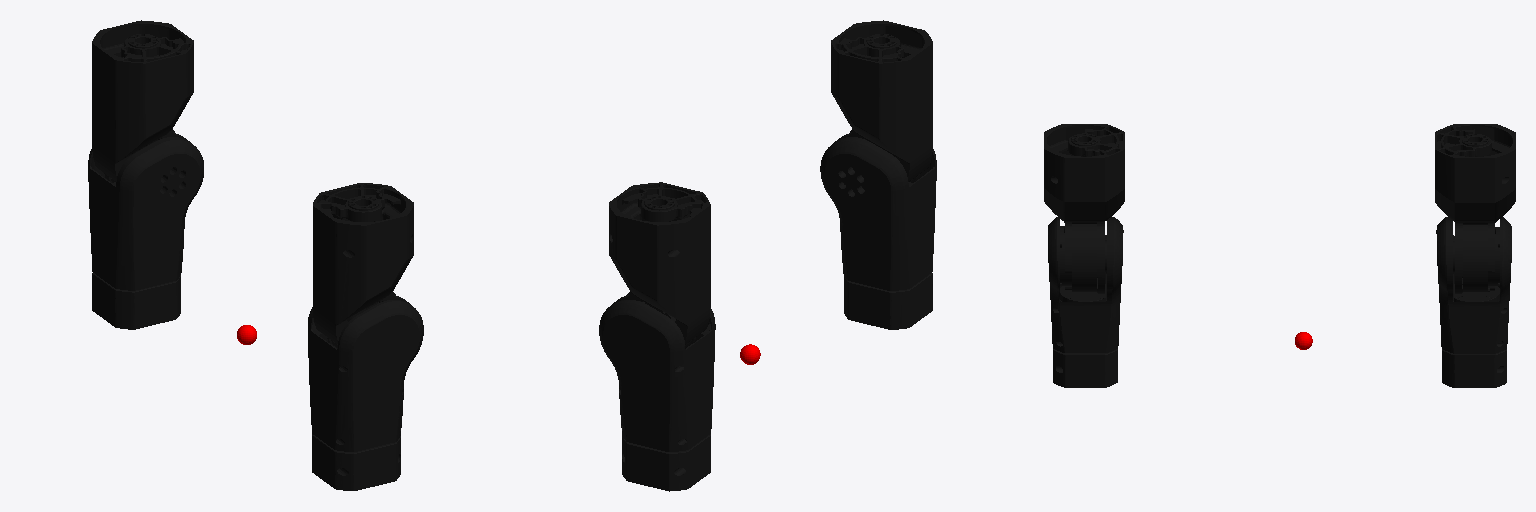
The robot description file, URDF, robot "assy_forurdf":
<?xml version="1.0" ?>
<robot name="assy_forurdf">
  <link name="base">
    <visual name="base_visual">
      <geometry name="base_geometry">
        <sphere radius="0.01"/>
      </geometry>
      <material name="base_material">
        <color rgba="1 0 0 1"/>
      </material>
      <origin xyz="0 0.035 0" rpy="0 0 1.5708"/>
    </visual>
    <inertial name="base_inertial">
      <mass value="0.001"/>
      <inertia ixx="0.000001" iyy="0.000001" izz="0.000001" ixy="0" ixz="0" iyz="0"/>
      <origin xyz="0 0.035 0" rpy="0 0 1.5708"/>
    </inertial>
  </link>
  <joint name="base_joint" type="fixed">
    <parent link="base"/>
    <child link="KD_D_101L_L_Hip_Static"/>
    <origin xyz="0 0.035 0" rpy="0 0 1.5708"/>
  </joint>
  <joint name="dof_left_hip_pitch_04" type="revolute">
    <origin xyz="0.030112 0.000852 -0.027644" rpy="-1.570796 0 1.570796"/>
    <parent link="KD_D_101L_L_Hip_Static"/>
    <child link="KD_D_102L_L_Hip_Yoke_Drive"/>
    <limit effort="120" velocity="17.488" lower="-1.047198" upper="2.216568"/>
    <axis xyz="0 0 1"/>
  </joint>
  <joint name="dof_left_hip_roll_03" type="revolute">
    <origin xyz="-0.028250 0.030000 -0.071000" rpy="3.141593 -1.570796 0"/>
    <parent link="KD_D_102L_L_Hip_Yoke_Drive"/>
    <child link="L_Hip_Roll_RS03"/>
    <limit effort="60" velocity="18.849" lower="-0.209440" upper="2.268928"/>
    <axis xyz="0 0 -1"/>
  </joint>
  <joint name="dof_right_hip_pitch_04" type="revolute">
    <origin xyz="-0.081888 0.000852 -0.027644" rpy="1.570796 0 1.570796"/>
    <parent link="KD_D_101L_L_Hip_Static"/>
    <child link="KD_D_102R"/>
    <limit effort="120" velocity="17.488" lower="-2.216568" upper="1.047198"/>
    <axis xyz="0 0 1"/>
  </joint>
  <joint name="dof_right_shoulder_pitch_03" type="revolute">
    <origin xyz="-0.146888 0.000852 0.382856" rpy="0 -1.570796 0"/>
    <parent link="KD_D_101L_L_Hip_Static"/>
    <child link="KC_C_101R_ShldYokeDrive"/>
    <limit effort="60" velocity="18.849" lower="-3.490658" upper="1.047198"/>
    <axis xyz="0 0 -1"/>
  </joint>
  <joint name="dof_left_shoulder_pitch_03" type="revolute">
    <origin xyz="0.095112 0.000852 0.382856" rpy="0 1.570796 0"/>
    <parent link="KD_D_101L_L_Hip_Static"/>
    <child link="KD_C_101L_ShldYokeDrive"/>
    <limit effort="60" velocity="18.849" lower="-1.047198" upper="3.490658"/>
    <axis xyz="0 0 -1"/>
  </joint>
  <joint name="dof_right_hip_roll_03" type="revolute">
    <origin xyz="-0.028250 -0.030000 -0.071000" rpy="0 -1.570796 0"/>
    <parent link="KD_D_102R"/>
    <child link="L_Hip_Roll_RS03_2"/>
    <limit effort="60" velocity="18.849" lower="-2.268928" upper="0.209440"/>
    <axis xyz="0 0 1"/>
  </joint>
  <joint name="dof_right_shoulder_roll_03" type="revolute">
    <origin xyz="0 -0.024250 0.080000" rpy="1.570796 1.570796 0"/>
    <parent link="KC_C_101R_ShldYokeDrive"/>
    <child link="RS03_3"/>
    <limit effort="60" velocity="18.849" lower="-1.658063" upper="0.436332"/>
    <axis xyz="0 0 1"/>
  </joint>
  <joint name="frame_imu_site" type="fixed">
    <origin xyz="-0.025422 -0.001897 0.440523" rpy="0 0 0"/>
    <parent link="KD_D_101L_L_Hip_Static"/>
    <child link="imu"/>
  </joint>
  <joint name="dof_left_shoulder_roll_03" type="revolute">
    <origin xyz="0 -0.024250 0.080000" rpy="1.570796 -1.570796 0"/>
    <parent link="KD_C_101L_ShldYokeDrive"/>
    <child link="RS03_4"/>
    <limit effort="60" velocity="18.849" lower="-0.436332" upper="1.658063"/>
    <axis xyz="0 0 1"/>
  </joint>
  <joint name="dof_left_hip_yaw_03" type="revolute">
    <origin xyz="0 -0.143000 0.025250" rpy="1.570796 0 -3.141593"/>
    <parent link="L_Hip_Roll_RS03"/>
    <child link="KD_D_301L_L_Femur_Lower_Drive"/>
    <limit effort="60" velocity="18.849" lower="-1.570796" upper="1.570796"/>
    <axis xyz="0 0 1"/>
  </joint>
  <joint name="dof_right_hip_yaw_03" type="revolute">
    <origin xyz="0 -0.143000 -0.025250" rpy="-1.570796 0 0"/>
    <parent link="L_Hip_Roll_RS03_2"/>
    <child link="KD_D_301R"/>
    <limit effort="60" velocity="18.849" lower="-1.570796" upper="1.570796"/>
    <axis xyz="0 0 1"/>
  </joint>
  <joint name="dof_right_shoulder_yaw_02" type="revolute">
    <origin xyz="-0.013000 -0.142500 -0.031670" rpy="-1.570796 0 0"/>
    <parent link="RS03_3"/>
    <child link="KC_C_202R"/>
    <limit effort="17" velocity="37.699" lower="-1.671886" upper="1.671886"/>
    <axis xyz="0 0 1"/>
  </joint>
  <joint name="dof_left_shoulder_yaw_02" type="revolute">
    <origin xyz="0.013000 -0.142500 -0.030750" rpy="-1.570796 0 0"/>
    <parent link="RS03_4"/>
    <child link="KD_C_301L_LowerBicepDrive"/>
    <limit effort="17" velocity="37.699" lower="-1.671886" upper="1.671886"/>
    <axis xyz="0 0 1"/>
  </joint>
  <joint name="dof_left_knee_04" type="revolute">
    <origin xyz="-0.021000 0.021000 -0.212000" rpy="1.570796 0 1.570796"/>
    <parent link="KD_D_301L_L_Femur_Lower_Drive"/>
    <child link="KD_D_401L_L_Shin_Drive"/>
    <limit effort="120" velocity="17.488" lower="0" upper="2.705260"/>
    <axis xyz="0 0 1"/>
  </joint>
  <joint name="dof_left_ankle_02" type="revolute">
    <origin xyz="-0.030000 -0.290000 0.000950" rpy="3.141593 0 0"/>
    <parent link="KD_D_401L_L_Shin_Drive"/>
    <child link="LFootBushing_GPF_1517_12"/>
    <limit effort="17" velocity="37.699" lower="-1.134464" upper="0.261799"/>
    <axis xyz="0 0 -1"/>
  </joint>
  <joint name="dof_right_knee_04" type="revolute">
    <origin xyz="0.021000 0.021000 -0.212000" rpy="1.570796 0 1.570796"/>
    <parent link="KD_D_301R"/>
    <child link="KD_D_401R"/>
    <limit effort="120" velocity="17.488" lower="-2.705260" upper="0"/>
    <axis xyz="0 0 -1"/>
  </joint>
  <joint name="dof_right_elbow_02" type="revolute">
    <origin xyz="0.019000 -0.010000 -0.137000" rpy="-1.570796 0 1.570796"/>
    <parent link="KC_C_202R"/>
    <child link="KC_C_401R_R_UpForearmDrive"/>
    <limit effort="17" velocity="37.699" lower="0" upper="2.478368"/>
    <axis xyz="0 0 1"/>
  </joint>
  <joint name="dof_left_elbow_02" type="revolute">
    <origin xyz="-0.019000 -0.010000 -0.137000" rpy="1.570796 0 1.570796"/>
    <parent link="KD_C_301L_LowerBicepDrive"/>
    <child link="KC_C_401L_Up_Forearm_Drive"/>
    <limit effort="17" velocity="37.699" lower="-2.478368" upper="0"/>
    <axis xyz="0 0 1"/>
  </joint>
  <joint name="dof_right_ankle_02" type="revolute">
    <origin xyz="-0.030000 -0.290000 -0.000950" rpy="0 0 0"/>
    <parent link="KD_D_401R"/>
    <child link="RFootBushing_GPF_1517_12"/>
    <limit effort="17" velocity="37.699" lower="-0.261799" upper="1.134464"/>
    <axis xyz="0 0 -1"/>
  </joint>
  <joint name="dof_right_wrist_00" type="revolute">
    <origin xyz="0.017350 0.103000 0.018000" rpy="-1.570796 1.570796 0"/>
    <parent link="KC_C_401R_R_UpForearmDrive"/>
    <child link="PRT0001"/>
    <limit effort="14" velocity="27.227" lower="-1.378810" upper="1.378810"/>
    <axis xyz="0 0 -1"/>
  </joint>
  <joint name="dof_left_wrist_00" type="revolute">
    <origin xyz="0.017350 -0.103000 0.018000" rpy="1.570796 -1.570796 0"/>
    <parent link="KC_C_401L_Up_Forearm_Drive"/>
    <child link="PRT0001_2"/>
    <limit effort="14" velocity="27.227" lower="-1.378810" upper="1.378810"/>
    <axis xyz="0 0 -1"/>
  </joint>
  <link name="KD_D_101L_L_Hip_Static">
    <visual name="KD_D_101L_L_Hip_Static_visual">
      <origin xyz="0 0 0" rpy="0 0 0"/>
      <geometry name="KD_D_101L_L_Hip_Static_geometry">
        <mesh filename="meshes/KD_D_101L_L_Hip_Static.stl"/>
      </geometry>
      <material name="KD_D_101L_L_Hip_Static_material">
        <color rgba="0.121569 0.121569 0.121569 1"/>
      </material>
    </visual>
    <inertial name="KD_D_101L_L_Hip_Static_inertial">
      <mass value="12.606875"/>
      <inertia ixx="0.369404" iyy="0.398554" izz="0.058070" ixy="0.000002" ixz="0.000012" iyz="-0.001584"/>
      <origin xyz="-0.025920 0.003286 0.170540" rpy="0 0 0"/>
    </inertial>
  </link>
  <link name="KD_D_102L_L_Hip_Yoke_Drive">
    <visual name="KD_D_102L_L_Hip_Yoke_Drive_visual">
      <origin xyz="0 0 0" rpy="0 0 0"/>
      <geometry name="KD_D_102L_L_Hip_Yoke_Drive_geometry">
        <mesh filename="meshes/KD_D_102L_L_Hip_Yoke_Drive.stl"/>
      </geometry>
      <material name="KD_D_102L_L_Hip_Yoke_Drive_material">
        <color rgba="0.121569 0.121569 0.121569 1"/>
      </material>
    </visual>
    <inertial name="KD_D_102L_L_Hip_Yoke_Drive_inertial">
      <mass value="0.550354"/>
      <inertia ixx="0.000930" iyy="0.001251" izz="0.001328" ixy="0.000057" ixz="-0.000041" iyz="0.000182"/>
      <origin xyz="-0.004258 0.005667 -0.040380" rpy="0 0 0"/>
    </inertial>
  </link>
  <link name="L_Hip_Roll_RS03">
    <visual name="L_Hip_Roll_RS03_visual">
      <origin xyz="0 0 0" rpy="0 0 0"/>
      <geometry name="L_Hip_Roll_RS03_geometry">
        <mesh filename="meshes/L_Hip_Roll_RS03.stl"/>
      </geometry>
      <material name="L_Hip_Roll_RS03_material">
        <color rgba="0.121569 0.121569 0.121569 1"/>
      </material>
    </visual>
    <inertial name="L_Hip_Roll_RS03_inertial">
      <mass value="2.396969"/>
      <inertia ixx="0.010350" iyy="0.003224" izz="0.010755" ixy="0.000002" ixz="0.000009" iyz="-0.000303"/>
      <origin xyz="-0.000136 -0.059376 0.026066" rpy="0 0 0"/>
    </inertial>
  </link>
  <link name="KD_D_102R">
    <visual name="KD_D_102R_visual">
      <origin xyz="0 0 0" rpy="0 0 0"/>
      <geometry name="KD_D_102R_geometry">
        <mesh filename="meshes/KD_D_102R.stl"/>
      </geometry>
      <material name="KD_D_102R_material">
        <color rgba="0.121569 0.121569 0.121569 1"/>
      </material>
    </visual>
    <inertial name="KD_D_102R_inertial">
      <mass value="0.550361"/>
      <inertia ixx="0.000930" iyy="0.001251" izz="0.001328" ixy="-0.000057" ixz="-0.000041" iyz="-0.000182"/>
      <origin xyz="-0.004258 -0.005667 -0.040379" rpy="0 0 0"/>
    </inertial>
  </link>
  <link name="KC_C_101R_ShldYokeDrive">
    <visual name="KC_C_101R_ShldYokeDrive_visual">
      <origin xyz="0 0 0" rpy="0 0 0"/>
      <geometry name="KC_C_101R_ShldYokeDrive_geometry">
        <mesh filename="meshes/KC_C_101R_ShldYokeDrive.stl"/>
      </geometry>
      <material name="KC_C_101R_ShldYokeDrive_material">
        <color rgba="0.121569 0.121569 0.121569 1"/>
      </material>
    </visual>
    <inertial name="KC_C_101R_ShldYokeDrive_inertial">
      <mass value="0.569870"/>
      <inertia ixx="0.001409" iyy="0.001159" izz="0.001309" ixy="0" ixz="0.000001" iyz="0.000162"/>
      <origin xyz="0.003158 -0.007737 0.047375" rpy="0 0 0"/>
    </inertial>
  </link>
  <link name="KD_C_101L_ShldYokeDrive">
    <visual name="KD_C_101L_ShldYokeDrive_visual">
      <origin xyz="0 0 0" rpy="0 0 0"/>
      <geometry name="KD_C_101L_ShldYokeDrive_geometry">
        <mesh filename="meshes/KD_C_101L_ShldYokeDrive.stl"/>
      </geometry>
      <material name="KD_C_101L_ShldYokeDrive_material">
        <color rgba="0.121569 0.121569 0.121569 1"/>
      </material>
    </visual>
    <inertial name="KD_C_101L_ShldYokeDrive_inertial">
      <mass value="0.569863"/>
      <inertia ixx="0.001409" iyy="0.001159" izz="0.001309" ixy="0" ixz="-0.000001" iyz="0.000162"/>
      <origin xyz="-0.003158 -0.007737 0.047374" rpy="0 0 0"/>
    </inertial>
  </link>
  <link name="L_Hip_Roll_RS03_2">
    <visual name="L_Hip_Roll_RS03_visual_2">
      <origin xyz="0 0 0" rpy="0 0 0"/>
      <geometry name="L_Hip_Roll_RS03_geometry_2">
        <mesh filename="meshes/L_Hip_Roll_RS03_2.stl"/>
      </geometry>
      <material name="L_Hip_Roll_RS03_material_2">
        <color rgba="0.121569 0.121569 0.121569 1"/>
      </material>
    </visual>
    <inertial name="L_Hip_Roll_RS03_inertial_2">
      <mass value="2.396917"/>
      <inertia ixx="0.010350" iyy="0.003224" izz="0.010755" ixy="0.000002" ixz="-0.000009" iyz="0.000303"/>
      <origin xyz="-0.000137 -0.059376 -0.026067" rpy="0 0 0"/>
    </inertial>
  </link>
  <link name="RS03_3">
    <visual name="RS03_visual_3">
      <origin xyz="0 0 0" rpy="0 0 0"/>
      <geometry name="RS03_geometry_3">
        <mesh filename="meshes/RS03_3.stl"/>
      </geometry>
      <material name="RS03_material_3">
        <color rgba="0.121569 0.121569 0.121569 1"/>
      </material>
    </visual>
    <inertial name="RS03_inertial_3">
      <mass value="1.789232"/>
      <inertia ixx="0.007176" iyy="0.001972" izz="0.007602" ixy="-0.000597" ixz="-0.000001" iyz="-0.000081"/>
      <origin xyz="-0.004909 -0.041175 -0.029409" rpy="0 0 0"/>
    </inertial>
  </link>
  <link name="imu">
    <visual name="imu_visual">
      <origin xyz="0 0 0" rpy="0 0 0"/>
      <geometry name="imu_geometry">
        <mesh filename="meshes/imu.stl"/>
      </geometry>
      <material name="imu_material">
        <color rgba="0.498039 0.498039 0.498039 1"/>
      </material>
    </visual>
    <inertial name="imu_inertial">
      <mass value="0.005700"/>
      <inertia ixx="0.000001" iyy="0.000001" izz="0.000002" ixy="0" ixz="0" iyz="0"/>
      <origin xyz="-0.003012 0 0.002999" rpy="0 0 0"/>
    </inertial>
  </link>
  <link name="RS03_4">
    <visual name="RS03_visual_4">
      <origin xyz="0 0 0" rpy="0 0 0"/>
      <geometry name="RS03_geometry_4">
        <mesh filename="meshes/RS03_4.stl"/>
      </geometry>
      <material name="RS03_material_4">
        <color rgba="0.121569 0.121569 0.121569 1"/>
      </material>
    </visual>
    <inertial name="RS03_inertial_4">
      <mass value="1.789191"/>
      <inertia ixx="0.007175" iyy="0.001972" izz="0.007602" ixy="0.000599" ixz="0.000012" iyz="-0.000104"/>
      <origin xyz="0.004876 -0.041173 -0.029352" rpy="0 0 0"/>
    </inertial>
  </link>
  <link name="KD_D_301L_L_Femur_Lower_Drive">
    <visual name="KD_D_301L_L_Femur_Lower_Drive_visual">
      <origin xyz="0 0 0" rpy="0 0 0"/>
      <geometry name="KD_D_301L_L_Femur_Lower_Drive_geometry">
        <mesh filename="meshes/KD_D_301L_L_Femur_Lower_Drive.stl"/>
      </geometry>
      <material name="KD_D_301L_L_Femur_Lower_Drive_material">
        <color rgba="0.121569 0.121569 0.121569 1"/>
      </material>
    </visual>
    <inertial name="KD_D_301L_L_Femur_Lower_Drive_inertial">
      <mass value="2.349254"/>
      <inertia ixx="0.015361" iyy="0.013924" izz="0.004011" ixy="-0.000189" ixz="0.001119" iyz="0.001496"/>
      <origin xyz="0.001576 0.013392 -0.172799" rpy="0 0 0"/>
    </inertial>
  </link>
  <link name="KD_D_301R">
    <visual name="KD_D_301R_visual">
      <origin xyz="0 0 0" rpy="0 0 0"/>
      <geometry name="KD_D_301R_geometry">
        <mesh filename="meshes/KD_D_301R.stl"/>
      </geometry>
      <material name="KD_D_301R_material">
        <color rgba="0.121569 0.121569 0.121569 1"/>
      </material>
    </visual>
    <inertial name="KD_D_301R_inertial">
      <mass value="2.349261"/>
      <inertia ixx="0.015362" iyy="0.013924" izz="0.004011" ixy="0.000189" ixz="-0.001119" iyz="0.001496"/>
      <origin xyz="-0.001577 0.013392 -0.172799" rpy="0 0 0"/>
    </inertial>
  </link>
  <link name="KC_C_202R">
    <visual name="KC_C_202R_visual">
      <origin xyz="0 0 0" rpy="0 0 0"/>
      <geometry name="KC_C_202R_geometry">
        <mesh filename="meshes/KC_C_202R.stl"/>
      </geometry>
      <material name="KC_C_202R_material">
        <color rgba="0.121569 0.121569 0.121569 1"/>
      </material>
    </visual>
    <inertial name="KC_C_202R_inertial">
      <mass value="0.753224"/>
      <inertia ixx="0.002457" iyy="0.002305" izz="0.000727" ixy="-0.000034" ixz="-0.000250" iyz="-0.000139"/>
      <origin xyz="0.003135 -0.003955 -0.099599" rpy="0 0 0"/>
    </inertial>
  </link>
  <link name="KD_C_301L_LowerBicepDrive">
    <visual name="KD_C_301L_LowerBicepDrive_visual">
      <origin xyz="0 0 0" rpy="0 0 0"/>
      <geometry name="KD_C_301L_LowerBicepDrive_geometry">
        <mesh filename="meshes/KD_C_301L_LowerBicepDrive.stl"/>
      </geometry>
      <material name="KD_C_301L_LowerBicepDrive_material">
        <color rgba="0.121569 0.121569 0.121569 1"/>
      </material>
    </visual>
    <inertial name="KD_C_301L_LowerBicepDrive_inertial">
      <mass value="0.866827"/>
      <inertia ixx="0.002953" iyy="0.002777" izz="0.000923" ixy="0.000016" ixz="0.000145" iyz="-0.000150"/>
      <origin xyz="0.000333 -0.002948 -0.095705" rpy="0 0 0"/>
    </inertial>
  </link>
  <link name="KD_D_401L_L_Shin_Drive">
    <visual name="KD_D_401L_L_Shin_Drive_visual">
      <origin xyz="0 0 0" rpy="0 0 0"/>
      <geometry name="KD_D_401L_L_Shin_Drive_geometry">
        <mesh filename="meshes/KD_D_401L_L_Shin_Drive.stl"/>
      </geometry>
      <material name="KD_D_401L_L_Shin_Drive_material">
        <color rgba="0.121569 0.121569 0.121569 1"/>
      </material>
    </visual>
    <inertial name="KD_D_401L_L_Shin_Drive_inertial">
      <mass value="1.684707"/>
      <inertia ixx="0.014785" iyy="0.002991" izz="0.014664" ixy="-0.000101" ixz="0.000022" iyz="0.000493"/>
      <origin xyz="-0.024116 -0.104308 0.018559" rpy="0 0 0"/>
    </inertial>
  </link>
  <link name="LFootBushing_GPF_1517_12">
    <visual name="LFootBushing_GPF_1517_12_visual">
      <origin xyz="0 0 0" rpy="0 0 0"/>
      <geometry name="LFootBushing_GPF_1517_12_geometry">
        <mesh filename="meshes/LFootBushing_GPF_1517_12.stl"/>
      </geometry>
      <material name="LFootBushing_GPF_1517_12_material">
        <color rgba="0.121569 0.121569 0.121569 1"/>
      </material>
    </visual>
    <collision name="LFootBushing_GPF_1517_12_collision">
      <origin xyz="0 0 0" rpy="0 0 0"/>
      <geometry name="LFootBushing_GPF_1517_12_collision_geometry">
        <mesh filename="meshes/LFootBushing_GPF_1517_12_collision.stl"/>
      </geometry>
    </collision>
    <inertial name="LFootBushing_GPF_1517_12_inertial">
      <mass value="0.608966"/>
      <inertia ixx="0.000377" iyy="0.001940" izz="0.001893" ixy="0.000126" ixz="-0.000025" iyz="0.000027"/>
      <origin xyz="-0.016549 0.031142 -0.012943" rpy="0 0 0"/>
    </inertial>
  </link>
  <link name="KD_D_401R">
    <visual name="KD_D_401R_visual">
      <origin xyz="0 0 0" rpy="0 0 0"/>
      <geometry name="KD_D_401R_geometry">
        <mesh filename="meshes/KD_D_401R.stl"/>
      </geometry>
      <material name="KD_D_401R_material">
        <color rgba="0.121569 0.121569 0.121569 1"/>
      </material>
    </visual>
    <inertial name="KD_D_401R_inertial">
      <mass value="1.684717"/>
      <inertia ixx="0.014785" iyy="0.002991" izz="0.014664" ixy="-0.000101" ixz="-0.000022" iyz="-0.000494"/>
      <origin xyz="-0.024117 -0.104310 -0.018558" rpy="0 0 0"/>
    </inertial>
  </link>
  <link name="KC_C_401R_R_UpForearmDrive">
    <visual name="KC_C_401R_R_UpForearmDrive_visual">
      <origin xyz="0 0 0" rpy="0 0 0"/>
      <geometry name="KC_C_401R_R_UpForearmDrive_geometry">
        <mesh filename="meshes/KC_C_401R_R_UpForearmDrive.stl"/>
      </geometry>
      <material name="KC_C_401R_R_UpForearmDrive_material">
        <color rgba="0.121569 0.121569 0.121569 1"/>
      </material>
    </visual>
    <inertial name="KC_C_401R_R_UpForearmDrive_inertial">
      <mass value="0.641859"/>
      <inertia ixx="0.001302" iyy="0.000701" izz="0.001278" ixy="-0.000051" ixz="-0.000010" iyz="-0.000045"/>
      <origin xyz="0.015853 0.061198 0.015613" rpy="0 0 0"/>
    </inertial>
  </link>
  <link name="KC_C_401L_Up_Forearm_Drive">
    <visual name="KC_C_401L_Up_Forearm_Drive_visual">
      <origin xyz="0 0 0" rpy="0 0 0"/>
      <geometry name="KC_C_401L_Up_Forearm_Drive_geometry">
        <mesh filename="meshes/KC_C_401L_Up_Forearm_Drive.stl"/>
      </geometry>
      <material name="KC_C_401L_Up_Forearm_Drive_material">
        <color rgba="0.121569 0.121569 0.121569 1"/>
      </material>
    </visual>
    <inertial name="KC_C_401L_Up_Forearm_Drive_inertial">
      <mass value="0.641873"/>
      <inertia ixx="0.001303" iyy="0.000701" izz="0.001278" ixy="0.000051" ixz="-0.000010" iyz="0.000048"/>
      <origin xyz="0.015853 -0.061197 0.015921" rpy="0 0 0"/>
    </inertial>
  </link>
  <link name="RFootBushing_GPF_1517_12">
    <visual name="RFootBushing_GPF_1517_12_visual">
      <origin xyz="0 0 0" rpy="0 0 0"/>
      <geometry name="RFootBushing_GPF_1517_12_geometry">
        <mesh filename="meshes/RFootBushing_GPF_1517_12.stl"/>
      </geometry>
      <material name="RFootBushing_GPF_1517_12_material">
        <color rgba="0.121569 0.121569 0.121569 1"/>
      </material>
    </visual>
    <collision name="RFootBushing_GPF_1517_12_collision">
      <origin xyz="0 0 0" rpy="0 0 0"/>
      <geometry name="RFootBushing_GPF_1517_12_collision_geometry">
        <mesh filename="meshes/RFootBushing_GPF_1517_12_collision.stl"/>
      </geometry>
    </collision>
    <inertial name="RFootBushing_GPF_1517_12_inertial">
      <mass value="0.608742"/>
      <inertia ixx="0.000377" iyy="0.001939" izz="0.001892" ixy="-0.000126" ixz="-0.000025" iyz="-0.000027"/>
      <origin xyz="-0.016546 -0.031136 -0.012942" rpy="0 0 0"/>
    </inertial>
  </link>
  <link name="PRT0001">
    <visual name="PRT0001_visual">
      <origin xyz="0 0 0" rpy="0 0 0"/>
      <geometry name="PRT0001_geometry">
        <mesh filename="meshes/PRT0001.stl"/>
      </geometry>
      <material name="PRT0001_material">
        <color rgba="0.121569 0.121569 0.121569 1"/>
      </material>
    </visual>
    <inertial name="PRT0001_inertial">
      <mass value="0.462356"/>
      <inertia ixx="0.000274" iyy="0.000266" izz="0.000406" ixy="0" ixz="0.000002" iyz="0"/>
      <origin xyz="0.000357 0.000031 0.027390" rpy="0 0 0"/>
    </inertial>
  </link>
  <link name="PRT0001_2">
    <visual name="PRT0001_visual_2">
      <origin xyz="0 0 0" rpy="0 0 0"/>
      <geometry name="PRT0001_geometry_2">
        <mesh filename="meshes/PRT0001_2.stl"/>
      </geometry>
      <material name="PRT0001_material_2">
        <color rgba="0.121569 0.121569 0.121569 1"/>
      </material>
    </visual>
    <inertial name="PRT0001_inertial_2">
      <mass value="0.462356"/>
      <inertia ixx="0.000274" iyy="0.000266" izz="0.000406" ixy="0" ixz="-0.000002" iyz="0"/>
      <origin xyz="-0.000357 -0.000031 0.027390" rpy="0 0 0"/>
    </inertial>
  </link>
</robot>

--- What the picture shows (computed from the rendered views, not written in the file) ---
3 views of the same robot in one strip: view 1: azimuth 30°, elevation 25°; view 2: azimuth 150°, elevation 25°; view 3: azimuth 270°, elevation 25° (orthographic).
Robot: assy_forurdf — 23 links, 22 joints (20 revolute, 2 fixed); root link base; default pose: every joint at zero.
Visible links, largest first — view 1: KC_C_401L_Up_Forearm_Drive, KC_C_401R_R_UpForearmDrive, KC_C_202R, KD_C_301L_LowerBicepDrive, PRT0001, PRT0001_2; view 2: KC_C_401R_R_UpForearmDrive, KC_C_401L_Up_Forearm_Drive, KD_C_301L_LowerBicepDrive, KC_C_202R, PRT0001_2, PRT0001; view 3: KD_C_301L_LowerBicepDrive, KC_C_202R, KC_C_401L_Up_Forearm_Drive, KC_C_401R_R_UpForearmDrive, PRT0001, PRT0001_2.
Link boxes in pixels (x1,y1,x2,y2): KC_C_401L_Up_Forearm_Drive: (88, 137, 203, 290); KC_C_401R_R_UpForearmDrive: (308, 300, 423, 451); KC_C_202R: (313, 183, 413, 348); KD_C_301L_LowerBicepDrive: (92, 20, 193, 182); PRT0001: (312, 434, 400, 490); PRT0001_2: (92, 273, 180, 329); KC_C_401R_R_UpForearmDrive: (820, 137, 936, 290); KC_C_401L_Up_Forearm_Drive: (599, 300, 715, 451); KD_C_301L_LowerBicepDrive: (609, 182, 710, 348); KC_C_202R: (831, 20, 932, 182); PRT0001_2: (622, 434, 710, 491); PRT0001: (844, 273, 932, 329); KD_C_301L_LowerBicepDrive: (1435, 124, 1515, 293); KC_C_202R: (1044, 124, 1124, 293); KC_C_401L_Up_Forearm_Drive: (1436, 217, 1511, 353); KC_C_401R_R_UpForearmDrive: (1048, 217, 1123, 352); PRT0001: (1053, 349, 1117, 387); PRT0001_2: (1442, 349, 1506, 387).
Size in the robot's own frame: 0.0963 by 0.516 by 0.2875 metres.
Meshes: 22 distinct files referenced, 6 mesh visuals loaded (6 binary STL); not drawn: 16 (reference not matched to a file when rendering).